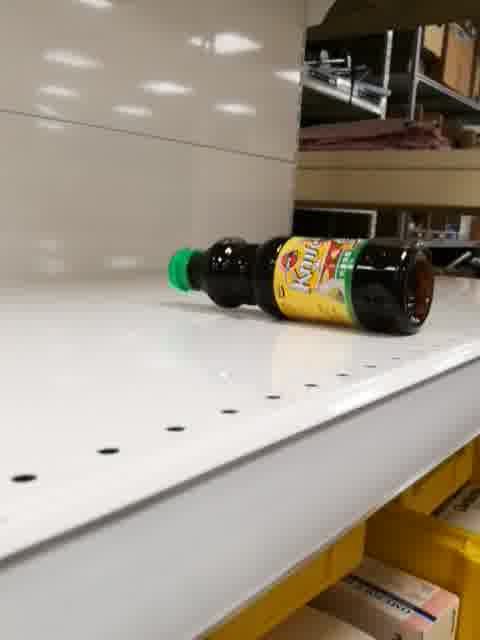cookingoil: (165, 229, 438, 339)
